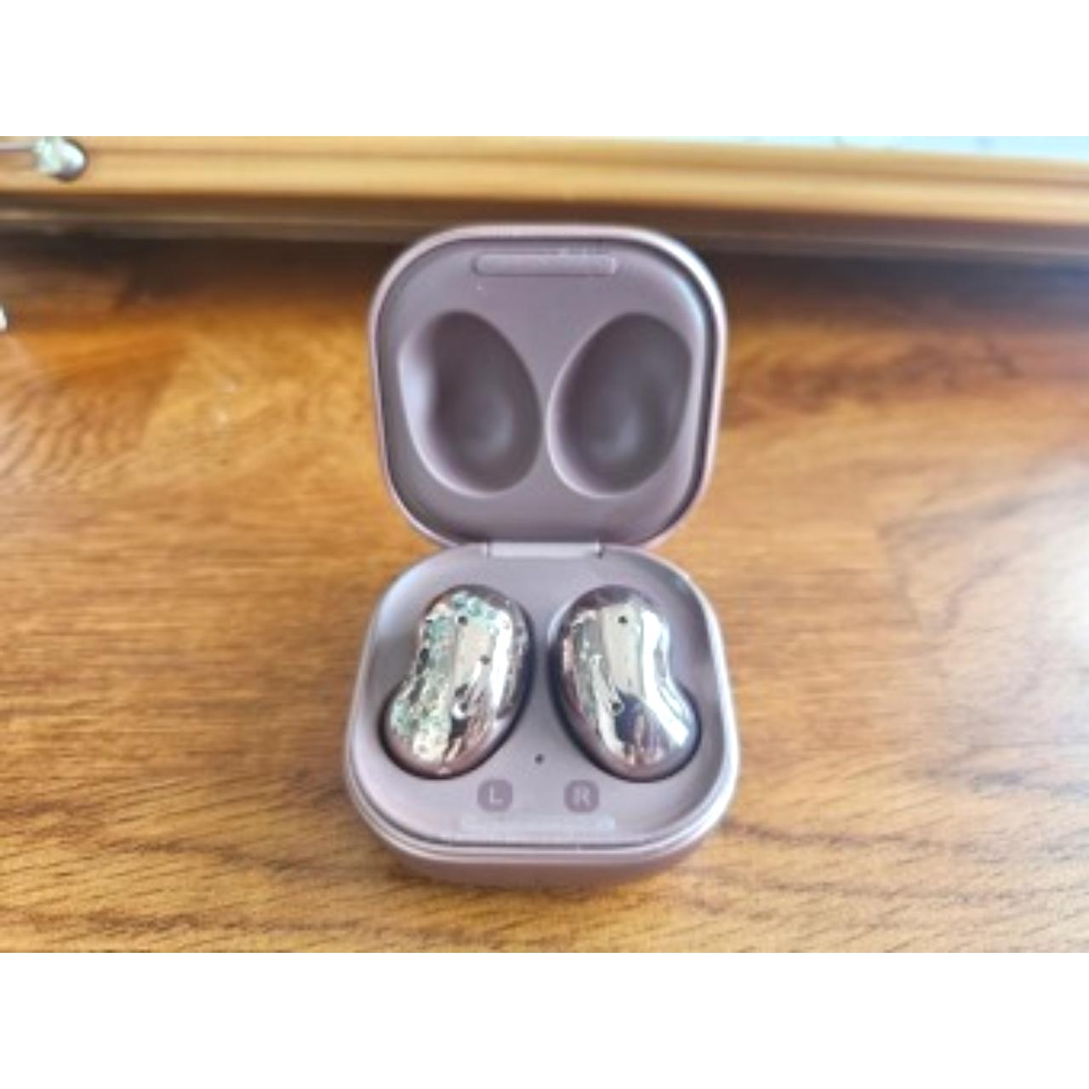Buds: (336, 222, 746, 888)
Buds_Units: (543, 583, 707, 787), (374, 582, 542, 781)
